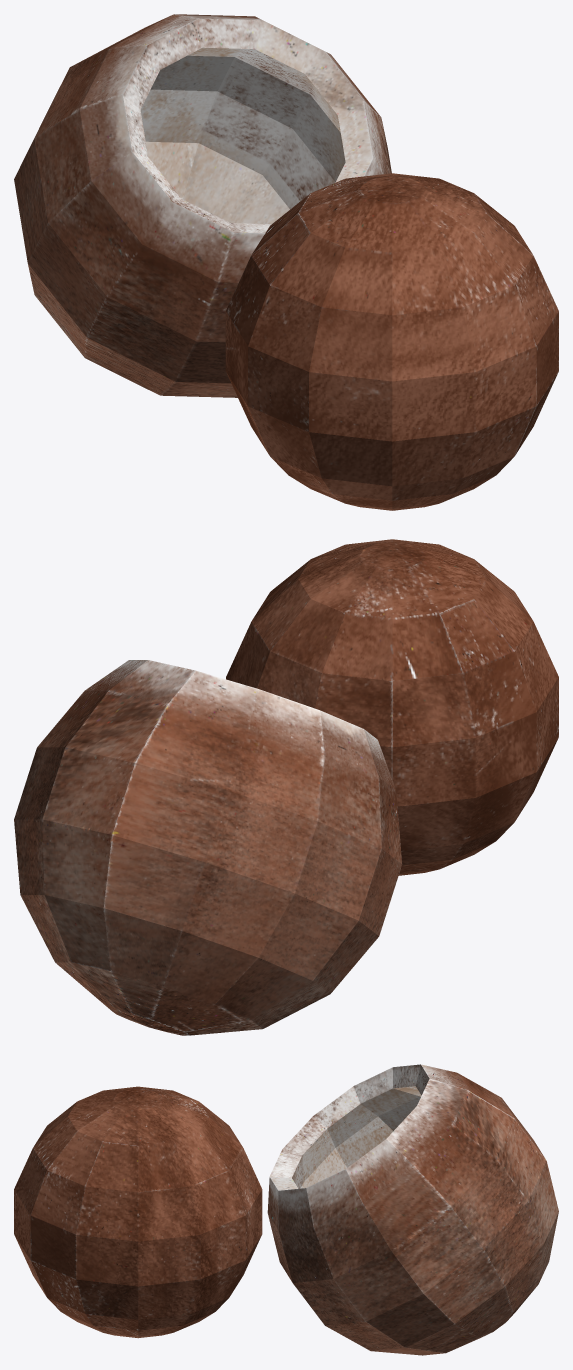
File: cocoloco.obj
3 views of the same model, one above another, from view 1: azimuth 30°, elevation 25°; view 2: azimuth 150°, elevation 25°; view 3: azimuth 270°, elevation 25° (orthographic). The views are drawn at different scales.
Visible parts, largest first — view 1: Sphere.001, Sphere; view 2: Sphere.001, Sphere; view 3: Sphere.001, Sphere.
Boxes of the visible parts, <box> form: Sphere.001: <box>14,14,391,397</box>; Sphere: <box>225,173,558,510</box>; Sphere.001: <box>14,660,402,1035</box>; Sphere: <box>226,539,558,875</box>; Sphere.001: <box>267,1064,558,1355</box>; Sphere: <box>14,1086,262,1338</box>.
Size of the model in its own units: 2.32 by 2.37 by 4.41.
Materials: 1 (1 with a texture image).
